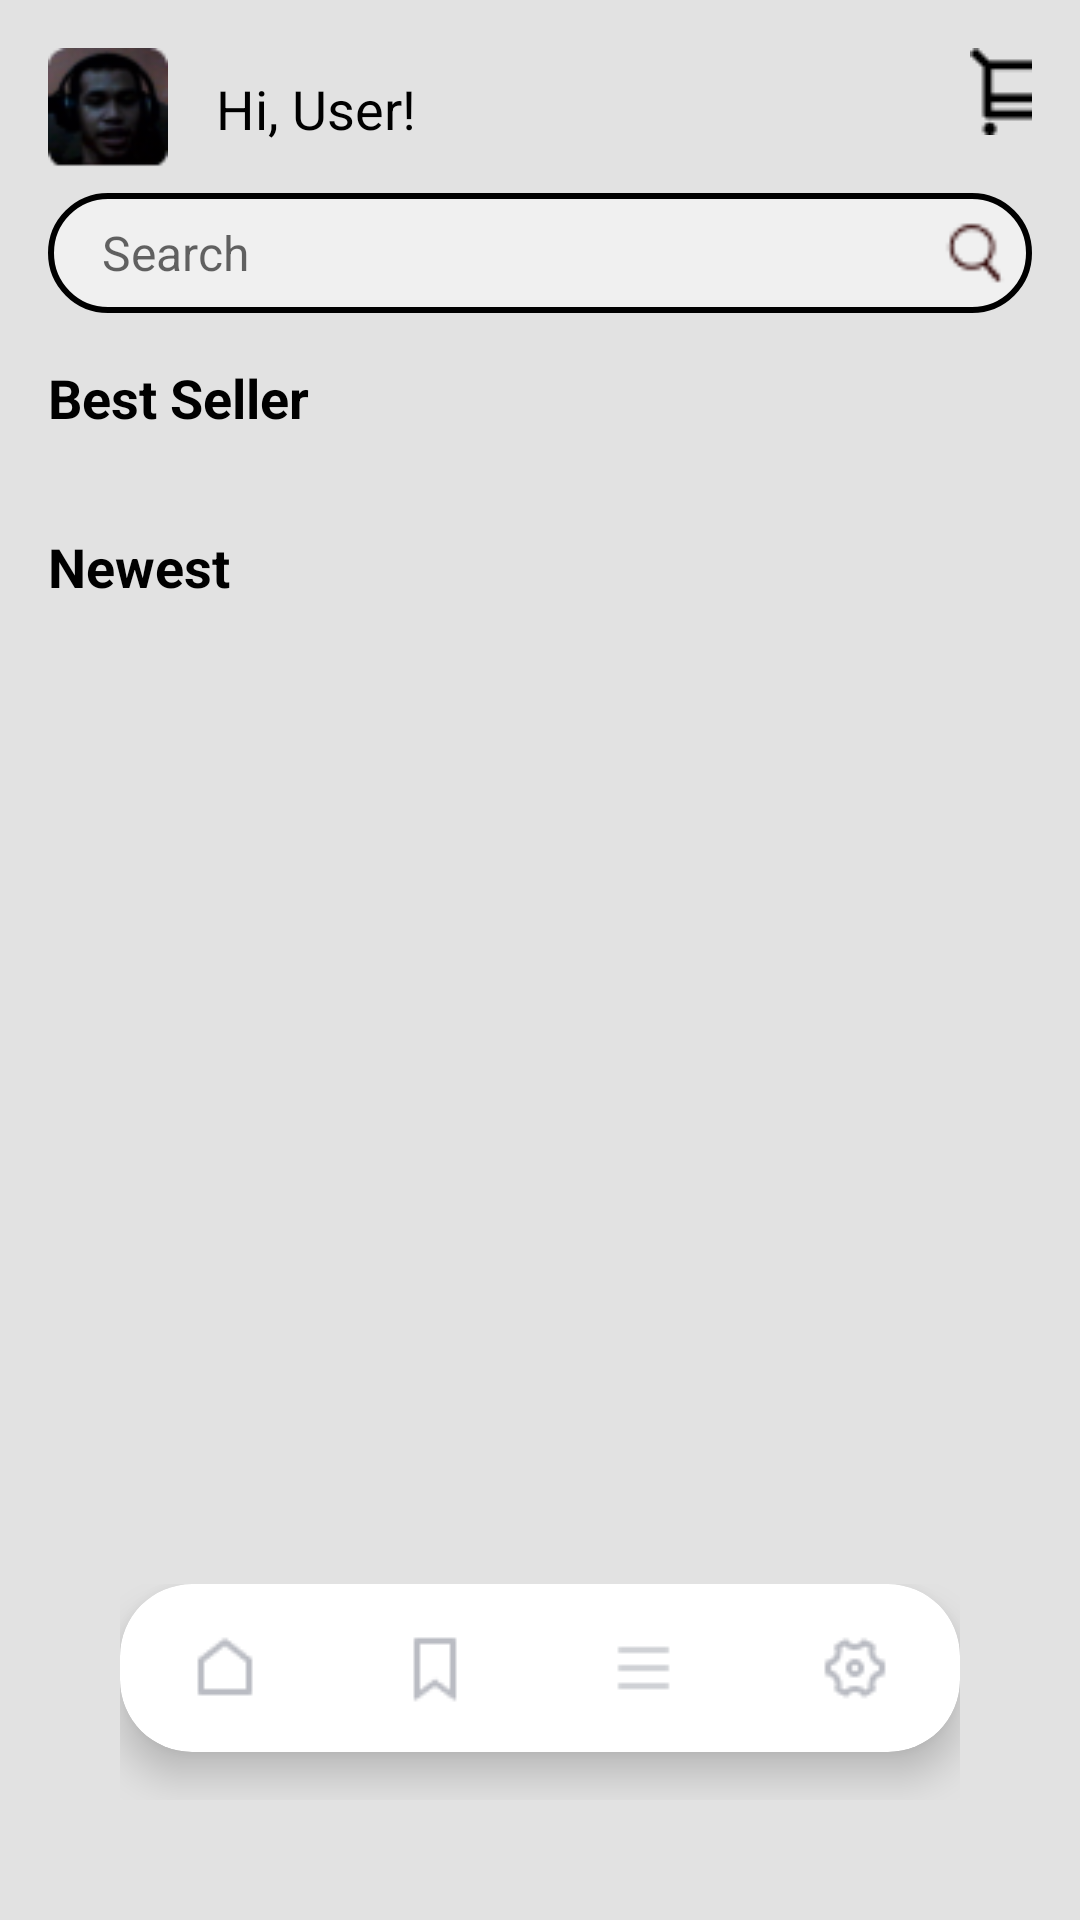

Icon bounding boxes for this 1080 x 1920 phone screenshot, format {"left": x1, "top": y1, "right": x2, "bottom": y2}:
settings: {"left": 825, "top": 1639, "right": 885, "bottom": 1697}
User Profile: {"left": 48, "top": 48, "right": 168, "bottom": 166}
